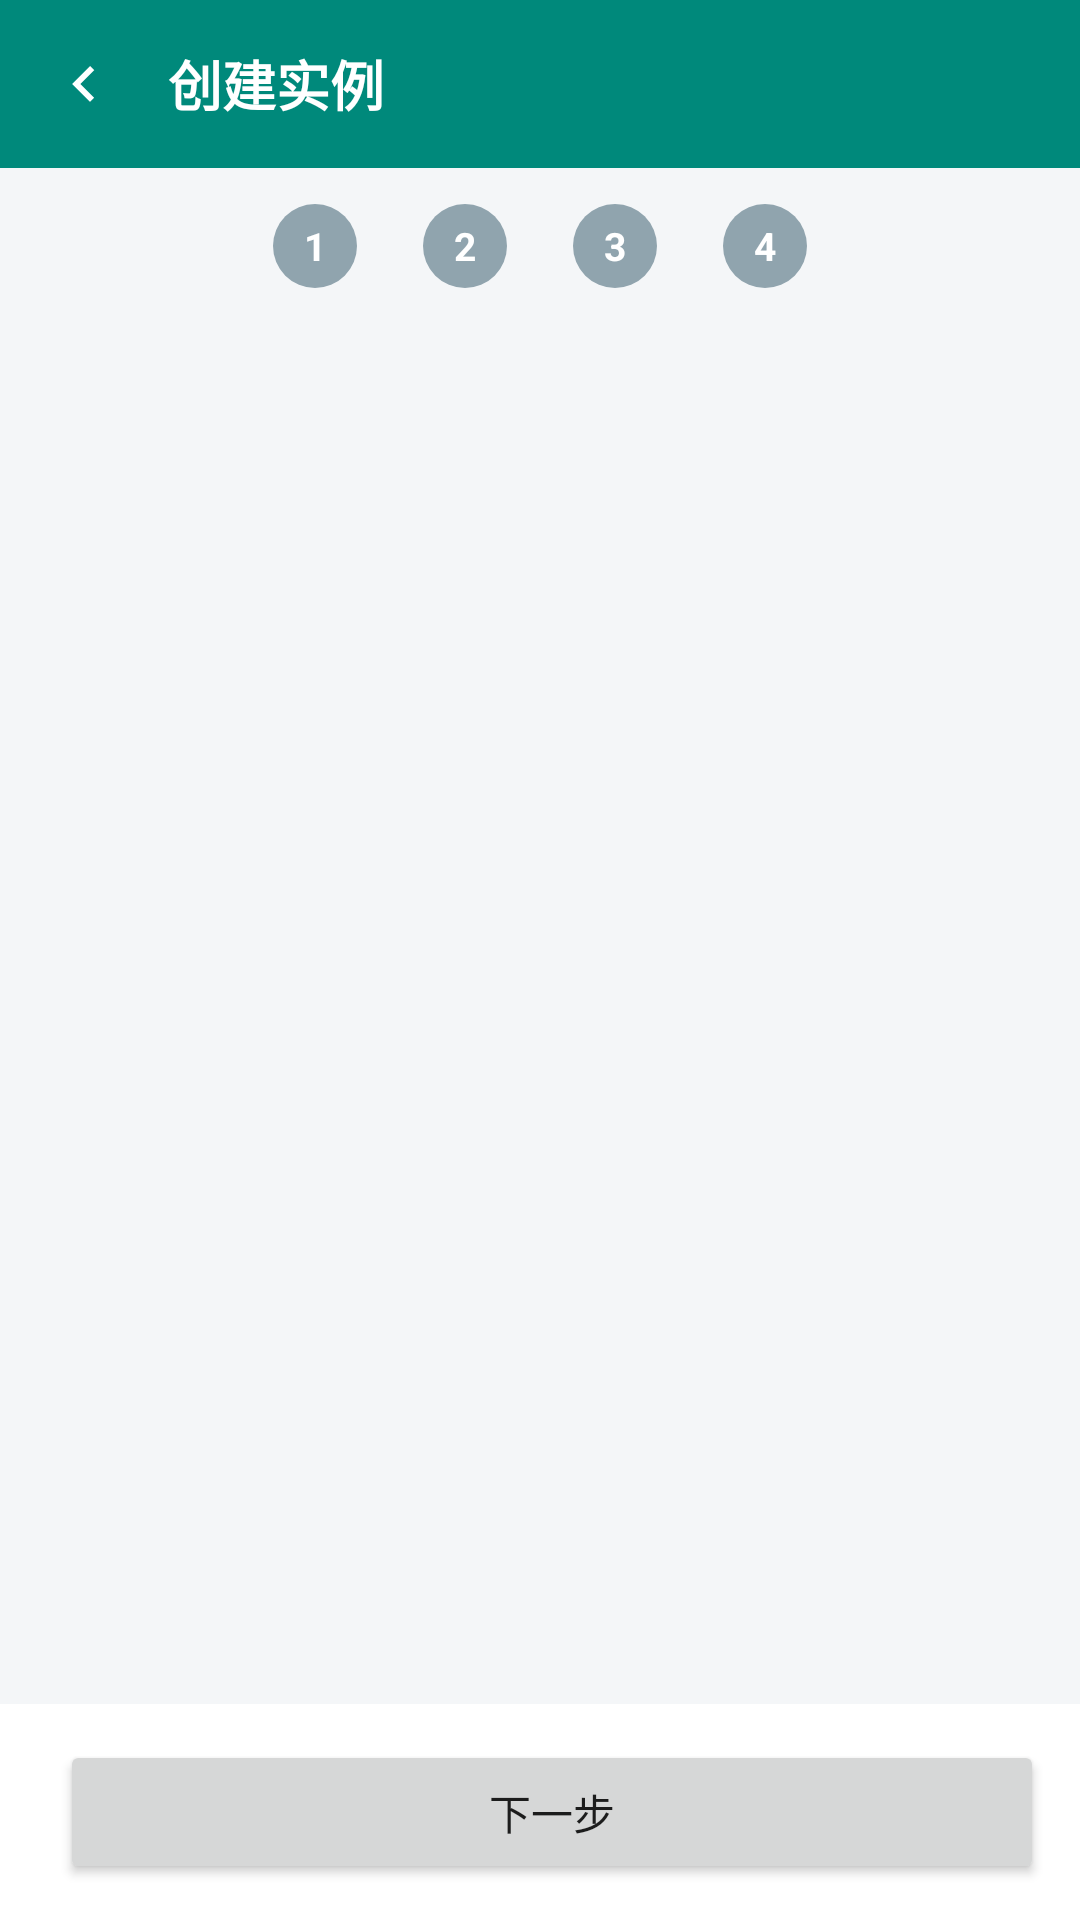

Where to tap for icons on this 1080 x 1920 app screen, as [x,y]:
返回: [83,84]
